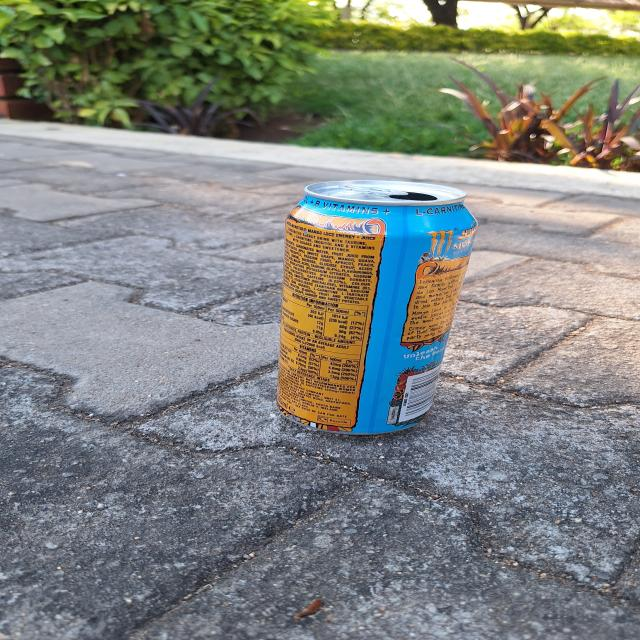Monster Mango Loco: (281, 175, 478, 438)
